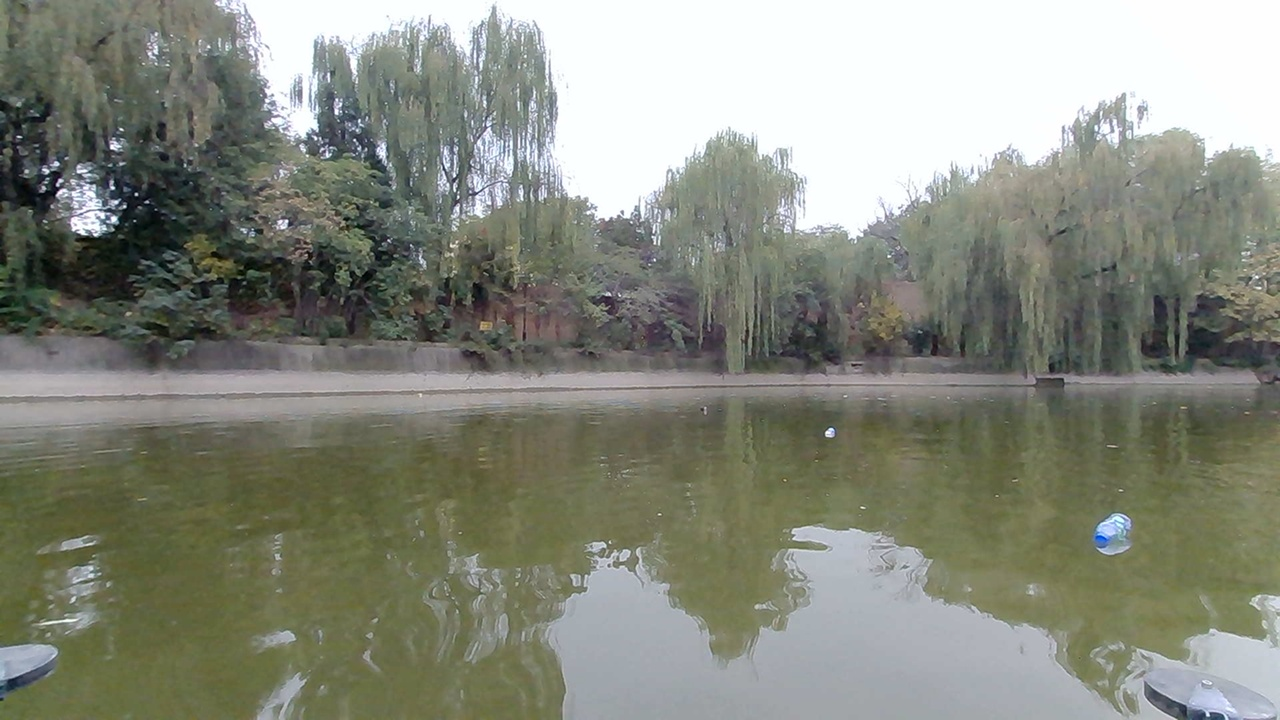bottle: (1082, 508, 1140, 558), (807, 410, 846, 439), (690, 397, 718, 423)
